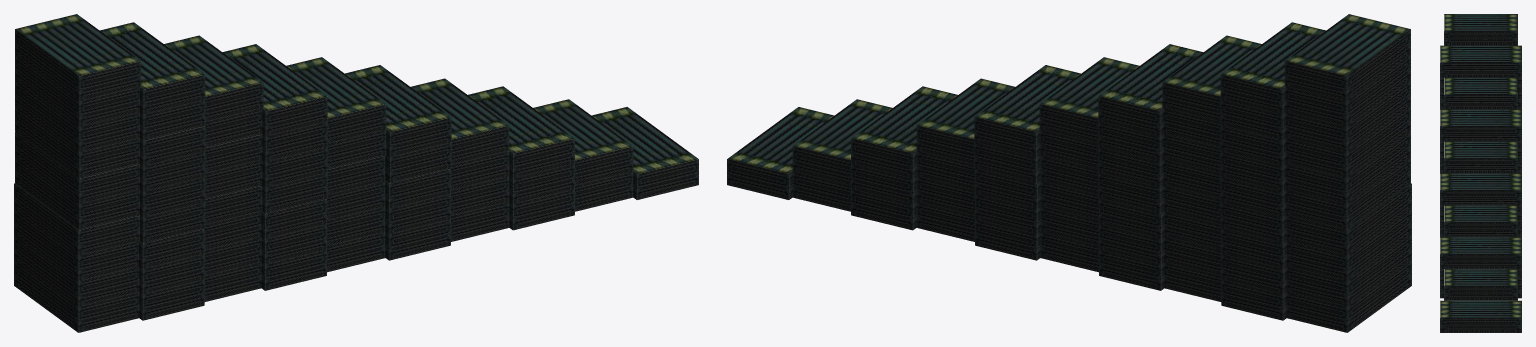
Rendered from full_stairs.fbx.
3 renders of one model, left to right at view 1: azimuth 30°, elevation 25°; view 2: azimuth 150°, elevation 25°; view 3: azimuth 270°, elevation 25°, orthographic. The views are drawn at different scales.
Visible parts, largest first — view 1: Cube.053; view 2: Cube.053; view 3: Cube.053.
Boxes of the visible parts, x1,y1,x2,y2 form: Cube.053: (14,14,698,332); Cube.053: (727,14,1411,332); Cube.053: (1440,14,1521,332).
Bounding box in the file's own units: 1991 × 791 × 400.
Materials: 1 (1 with a texture image).
